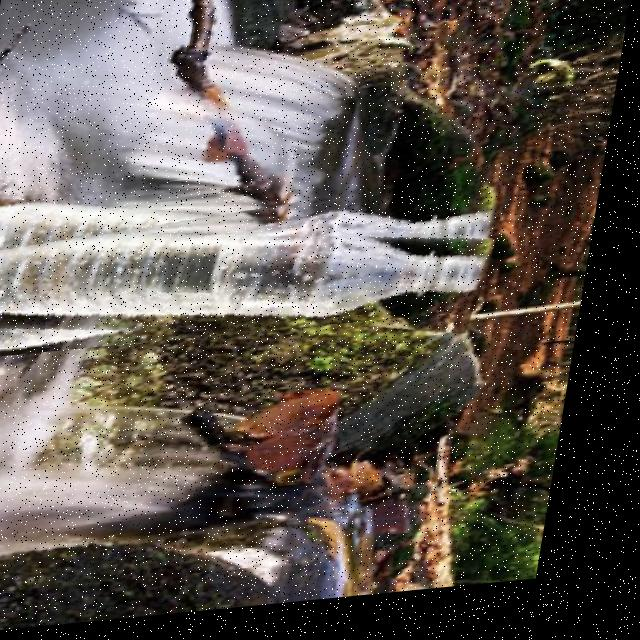litter: (0, 180, 513, 362)
